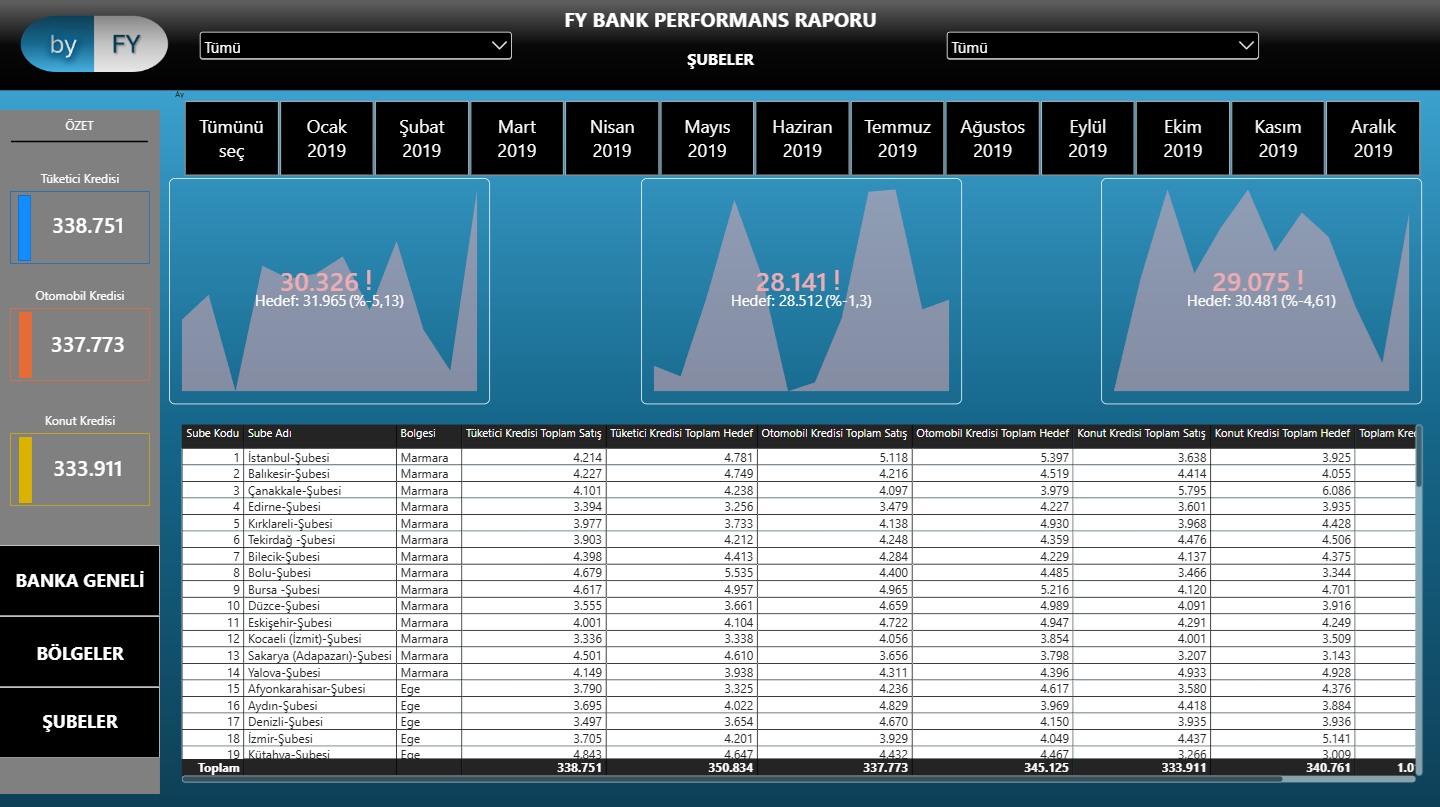

The dashboard page shown, as its layout file describes it:
{"tool":"powerbi","page":{"name":"ŞUBELER","canvas":[1920,1080],"ordinal":2},"visuals":[{"type":"textbox","box":[746.2,9.3,426.9,46.6],"z":0},{"type":"textbox","box":[746.2,66.5,426.9,46.6],"z":1000},{"type":"shape","box":[0,149,214.1,909.8],"z":2000},{"type":"textbox","box":[14.6,228.8,186.2,27.9],"z":3000},{"type":"shape","box":[16,179.6,182.2,22.6],"z":4000},{"type":"shape","box":[14.6,256.7,186.2,97.1],"z":5000},{"type":"textbox","box":[10.6,158.3,192.9,42.6],"z":6000},{"type":"shape","box":[25.3,262,17.3,87.8],"z":7000},{"type":"textbox","box":[14.6,384.4,186.2,27.9],"z":8000},{"type":"shape","box":[14.6,412.3,186.2,97.1],"z":9000},{"type":"shape","box":[26,417,17.3,87.8],"z":10000},{"type":"textbox","box":[14.6,550.6,186.2,27.9],"z":11000},{"type":"shape","box":[14.6,578.6,186.2,97.1],"z":12000},{"type":"shape","box":[26,583.3,17.3,87.8],"z":13000},{"type":"shape","box":[0,727.5,214.1,94.4],"z":14000},{"type":"shape","box":[0,822,214.1,94.4],"z":15000},{"type":"shape","box":[0,916.4,214.1,94.4],"z":16000},{"type":"textbox","box":[9.3,756.8,196.8,37.2],"z":17000},{"type":"textbox","box":[9.3,944.3,196.8,39.9],"z":18000},{"type":"textbox","box":[9.3,853.9,196.8,31.9],"z":19000},{"type":"card","fields":{"Values":["Ölçüler.Tüketici Kredisi Toplam Satış"]},"box":[42.3,259.7,151.7,88.5],"z":19001},{"type":"card","fields":{"Values":["Ölçüler.Konut Kredisi Toplam Satış"]},"box":[42.3,582.1,151.7,88.5],"z":19002},{"type":"card","fields":{"Values":["Ölçüler.Otomobil Kredisi Toplam Satış"]},"box":[42.7,417.2,151.7,88.5],"z":19003},{"type":"slicer","fields":{"Values":["Krediler.Ay"]},"box":[226,121.7,1683,116.9],"z":19004},{"type":"slicer","fields":{"Values":["Sube_Listesi.Bolgesi"]},"box":[262.6,39.4,424.6,51.1],"z":19005},{"type":"slicer","fields":{"Values":["Sube_Listesi.Sube Adı"]},"box":[1255.8,39.8,424.6,51.1],"z":19006},{"type":"kpi","fields":{"Goal":["Ölçüler.Tüketici Kredisi Toplam Hedef"],"Indicator":["Ölçüler.Tüketici Kredisi Toplam Satış"],"TrendLine":["Krediler.Ay"]},"box":[226.4,238.8,426.8,300.6],"z":19007},{"type":"kpi","fields":{"Goal":["Ölçüler.Otomobil Kredisi Toplam Hedef"],"Indicator":["Ölçüler.Otomobil Kredisi Toplam Satış"],"TrendLine":["Krediler.Ay"]},"box":[853.6,238.8,426.8,300.6],"z":19008},{"type":"kpi","fields":{"Goal":["Ölçüler.Konut Kredisi Toplam Hedef"],"Indicator":["Ölçüler.Konut Kredisi Toplam Satış"],"TrendLine":["Krediler.Ay"]},"box":[1465.7,238.8,426.8,300.6],"z":19009},{"type":"tableEx","fields":{"Values":["Sube_Listesi.Sube Kodu","Sube_Listesi.Sube Adı","Sube_Listesi.Bolgesi","Ölçüler.Tüketici Kredisi Toplam Satış","Ölçüler.Tüketici Kredisi Toplam Hedef","Ölçüler.Otomobil Kredisi Toplam Satış","Ölçüler.Otomobil Kredisi Toplam Hedef","Ölçüler.Konut Kredisi Toplam Satış","Ölçüler.Konut Kredisi Toplam Hedef","Ölçüler.Toplam Kredi Satışı","Ölçüler.Toplam Kredi Hedefi"]},"box":[226.4,553.1,1682.6,506.4],"z":19010}]}

Visuals, with their boxes in screenshot pixels (x1, y1, x2, y2), scaled from the page's 1920x1080 canvas onto the 1440x807 screenshot:
textbox: 560, 7, 880, 42
textbox: 560, 50, 880, 85
shape: 0, 111, 161, 791
textbox: 11, 171, 151, 192
shape: 12, 134, 149, 151
shape: 11, 192, 151, 264
textbox: 8, 118, 153, 150
shape: 19, 196, 32, 261
textbox: 11, 287, 151, 308
shape: 11, 308, 151, 381
shape: 20, 312, 32, 377
textbox: 11, 411, 151, 432
shape: 11, 432, 151, 505
shape: 20, 436, 32, 501
shape: 0, 544, 161, 614
shape: 0, 614, 161, 685
shape: 0, 685, 161, 755
textbox: 7, 565, 155, 593
textbox: 7, 706, 155, 735
textbox: 7, 638, 155, 662
card - Ölçüler.Tüketici Kredisi Toplam Satış: 32, 194, 146, 260
card - Ölçüler.Konut Kredisi Toplam Satış: 32, 435, 146, 501
card - Ölçüler.Otomobil Kredisi Toplam Satış: 32, 312, 146, 378
slicer - Krediler.Ay: 170, 91, 1432, 178
slicer - Sube_Listesi.Bolgesi: 197, 29, 515, 68
slicer - Sube_Listesi.Sube Adı: 942, 30, 1260, 68
kpi - Ölçüler.Tüketici Kredisi Toplam Hedef x Ölçüler.Tüketici Kredisi Toplam Satış: 170, 178, 490, 403
kpi - Ölçüler.Otomobil Kredisi Toplam Hedef x Ölçüler.Otomobil Kredisi Toplam Satış: 640, 178, 960, 403
kpi - Ölçüler.Konut Kredisi Toplam Hedef x Ölçüler.Konut Kredisi Toplam Satış: 1099, 178, 1419, 403
tableEx - Sube_Listesi.Sube Kodu x Sube_Listesi.Sube Adı: 170, 413, 1432, 792
